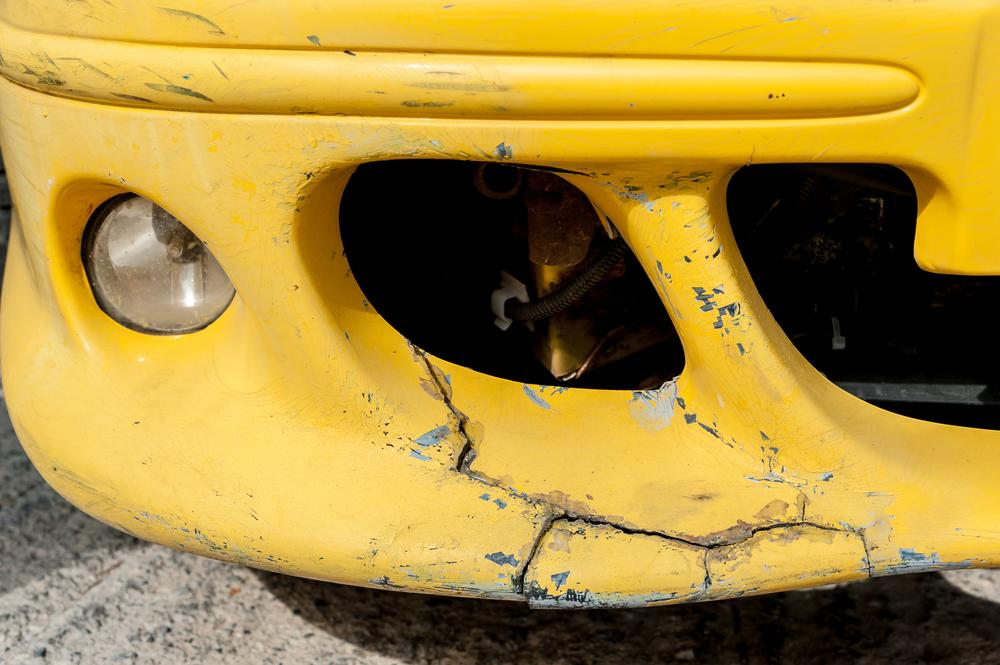crack: (408, 346, 876, 601)
scratch: (0, 52, 245, 102)
